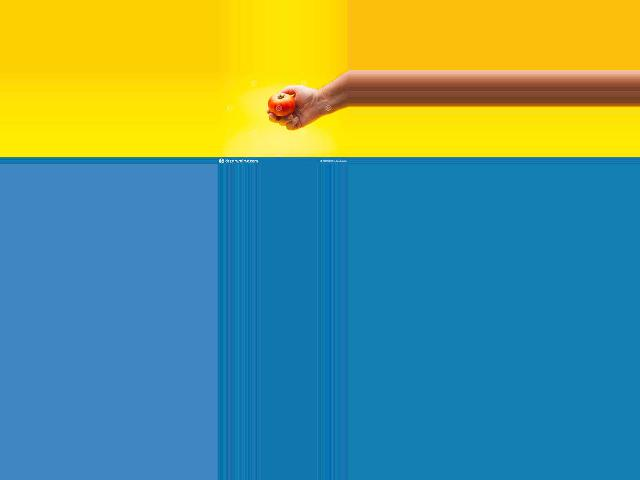tomato: (268, 93, 295, 116)
